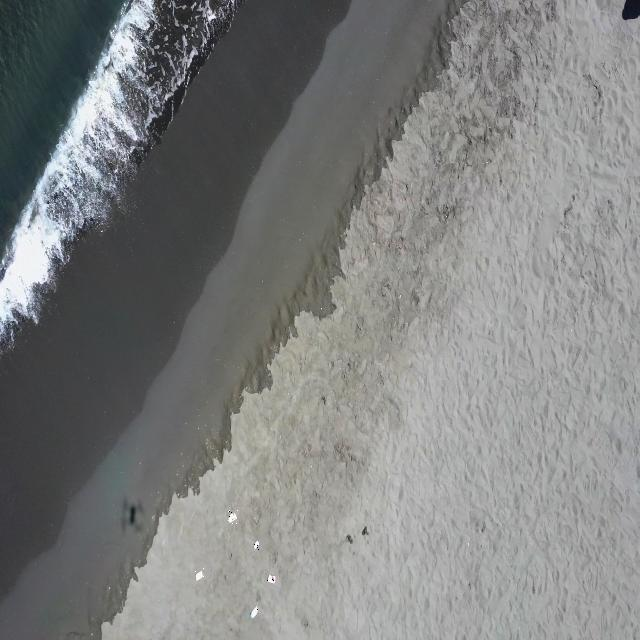Garbage: (227, 510, 236, 523), (195, 568, 203, 580), (249, 607, 258, 617), (267, 573, 275, 583), (253, 540, 258, 548)
